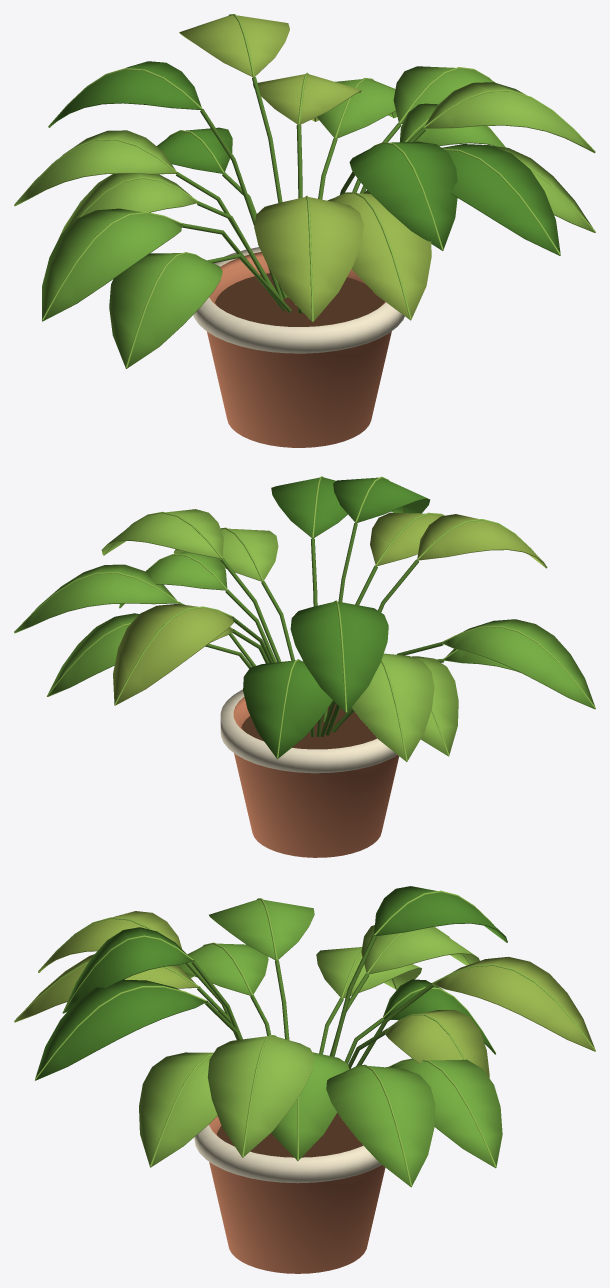
Rendered from PottedPlant.fbx.
3 views of the same model, one above another, from view 1: azimuth 30°, elevation 25°; view 2: azimuth 150°, elevation 25°; view 3: azimuth 270°, elevation 25° (orthographic). The views are drawn at different scales.
Visible parts, largest first — view 1: PottedPlant; view 2: PottedPlant; view 3: PottedPlant.
Part boxes in pixels (left/top/right/bottom): PottedPlant: left=14, top=14, right=595, bottom=447; PottedPlant: left=14, top=476, right=595, bottom=857; PottedPlant: left=14, top=886, right=595, bottom=1273.
Bounding box in the file's own units: 404 × 226 × 376.
